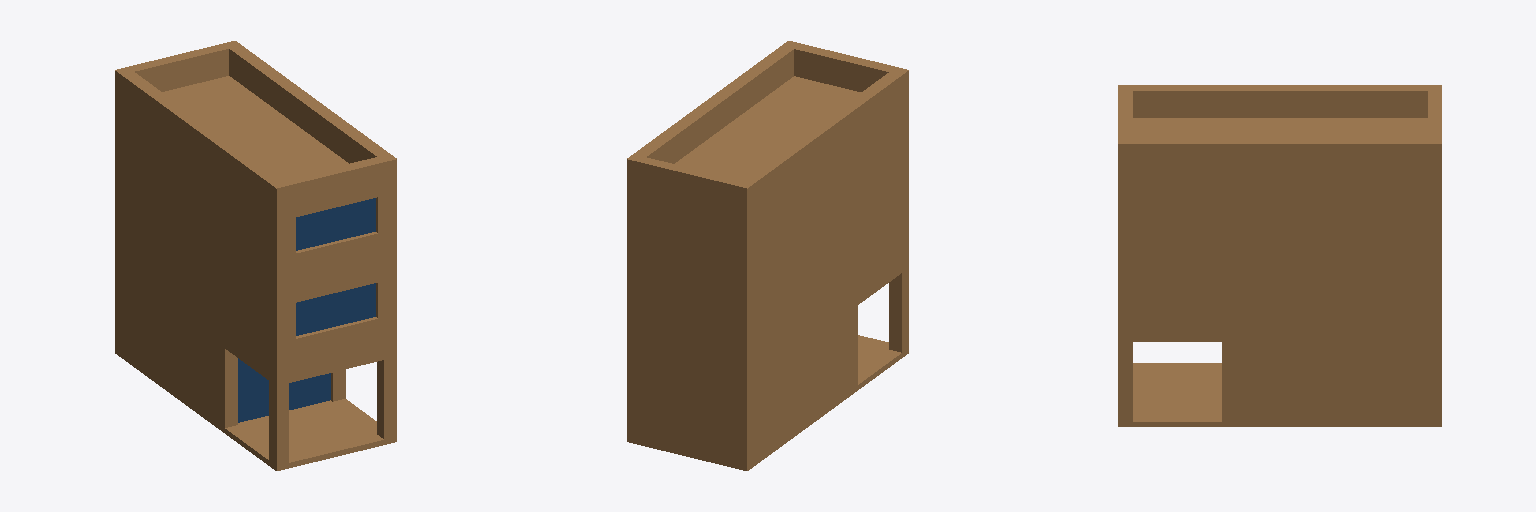
File: house.obj
3 renders of one model, left to right at view 1: azimuth 30°, elevation 25°; view 2: azimuth 150°, elevation 25°; view 3: azimuth 270°, elevation 25°, orthographic.
Visible parts, largest first — view 1: house_Cube.001; view 2: house_Cube.001; view 3: house_Cube.001.
Boxes of the visible parts, x1=… form: house_Cube.001: x1=115, y1=41, x2=396, y2=470; house_Cube.001: x1=627, y1=41, x2=908, y2=470; house_Cube.001: x1=1118, y1=85, x2=1441, y2=426.
Bounding box in the file's own units: 1.98 × 4.42 × 4.59.